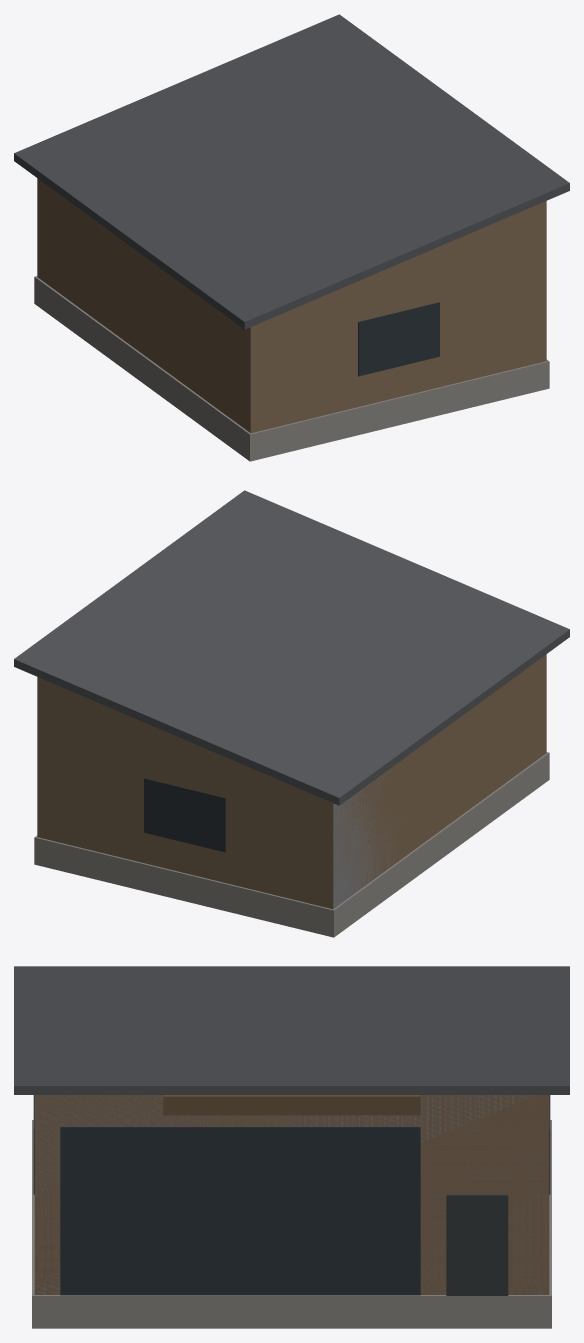
File: SM_Prop_cafe_building_9_LOD2.glb
3 views of the same model, one above another, from view 1: azimuth 30°, elevation 25°; view 2: azimuth 150°, elevation 25°; view 3: azimuth 270°, elevation 25° (orthographic). The views are drawn at different scales.
Visible parts, largest first — view 1: SM_Prop_cafe_building_9_LOD2; view 2: SM_Prop_cafe_building_9_LOD2; view 3: SM_Prop_cafe_building_9_LOD2.
Part boxes in pixels (left/top/right/bottom): SM_Prop_cafe_building_9_LOD2: left=14, top=14, right=569, bottom=461; SM_Prop_cafe_building_9_LOD2: left=14, top=490, right=569, bottom=937; SM_Prop_cafe_building_9_LOD2: left=14, top=966, right=569, bottom=1328.
Size of the model in its own units: 8.8 by 5.37 by 10.8.
